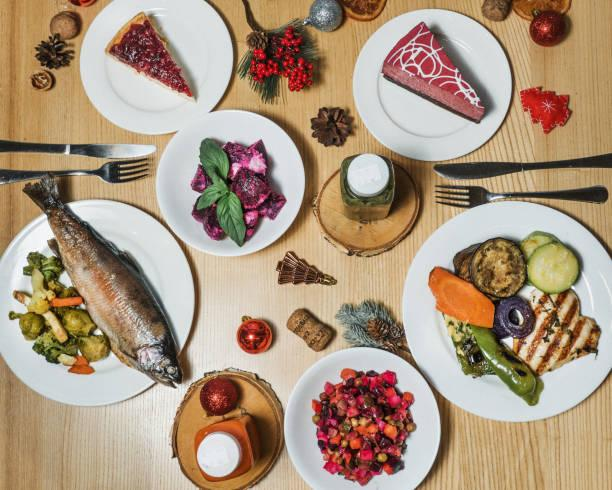Braised Crucian Carp: (400, 201, 605, 427), (1, 200, 197, 404), (352, 7, 510, 161), (282, 341, 442, 490), (78, 2, 238, 138), (147, 112, 306, 248)
